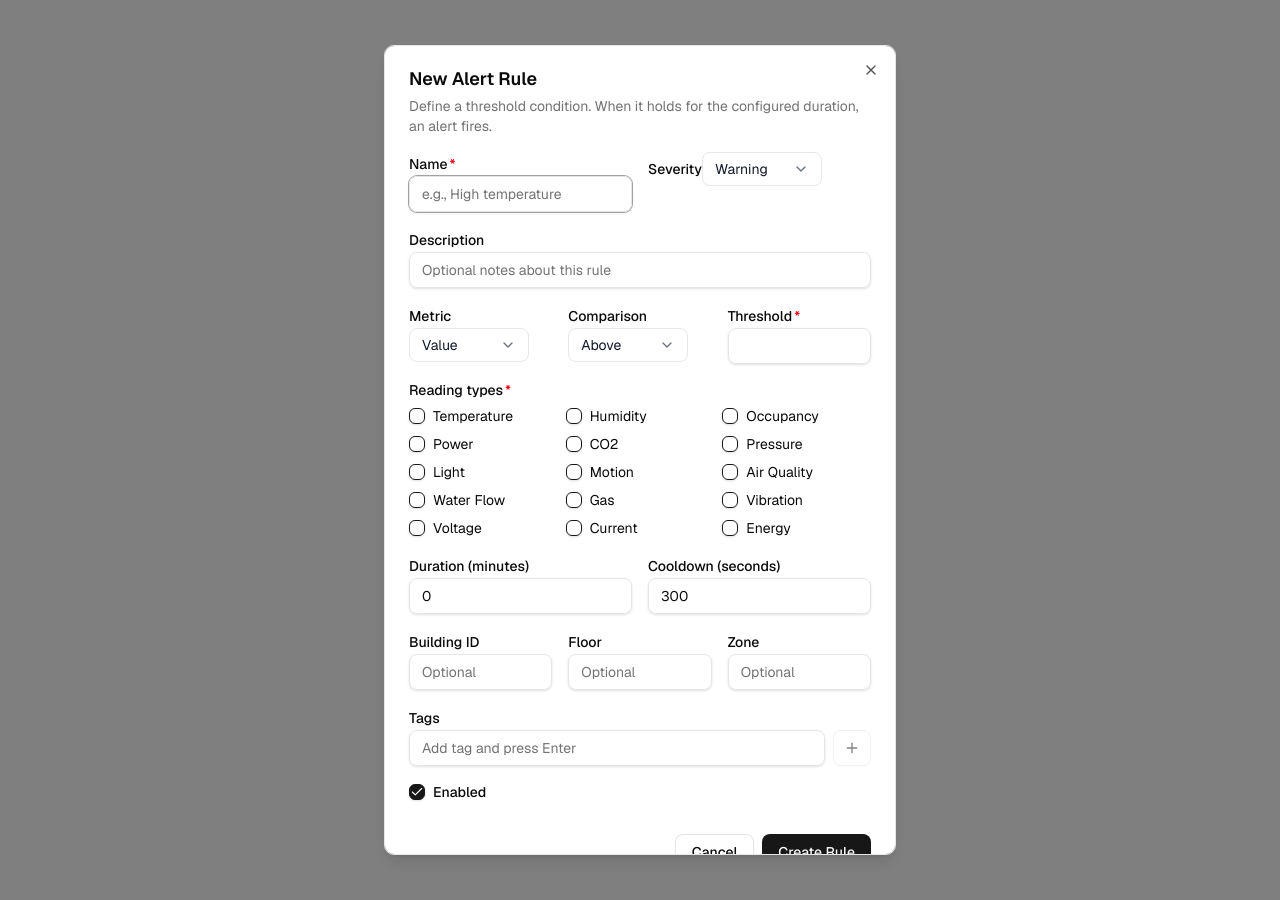
Test: CreateAlertRuleModal › should block submit when metric is 'value' and no type is selected
The width and height of the screenshot is (1280, 900).
Click the button "Create Rule".
click(817, 852)  # box [762,834,871,870]
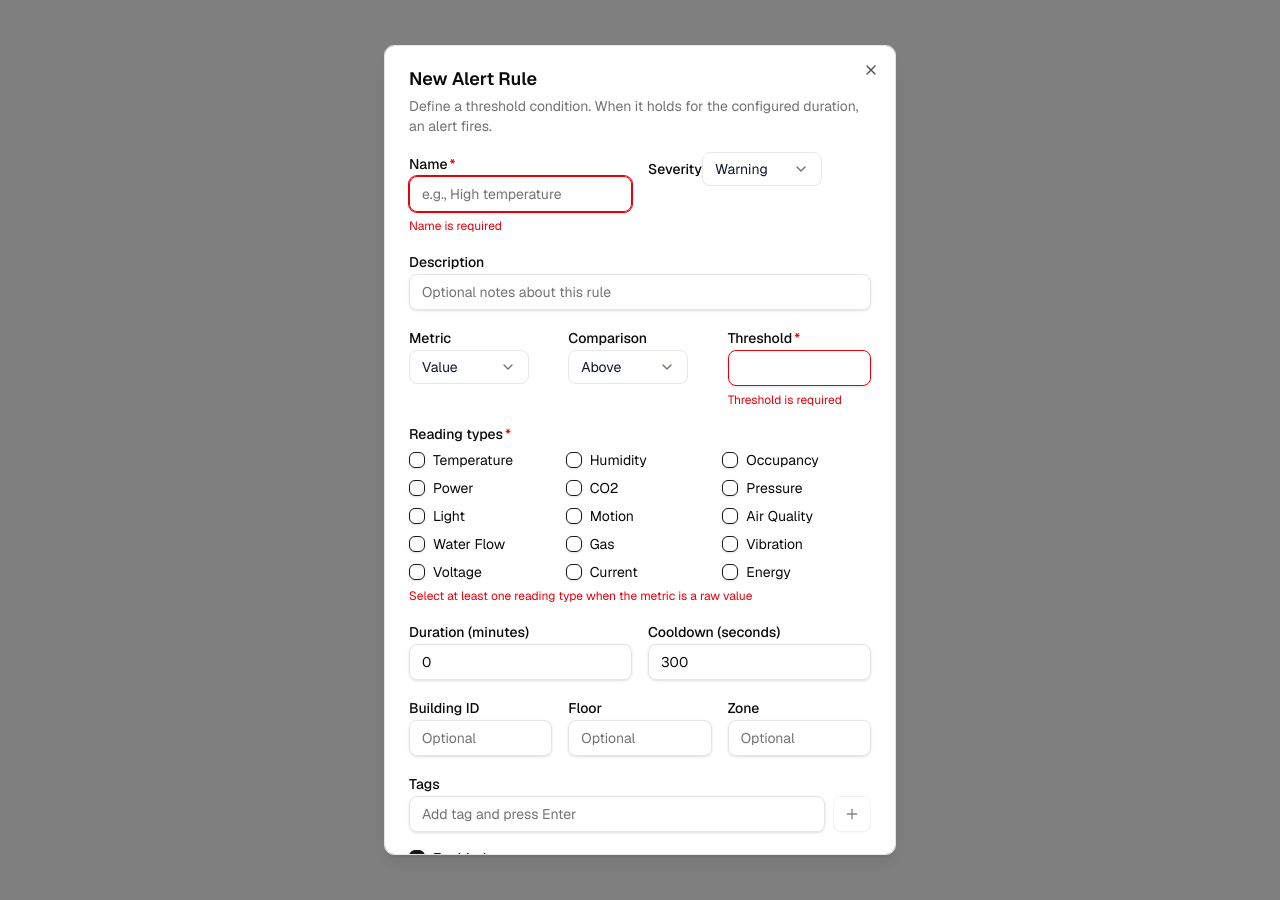
Result: the text "Select at least one reading type" is shown at [409,588,752,604]
